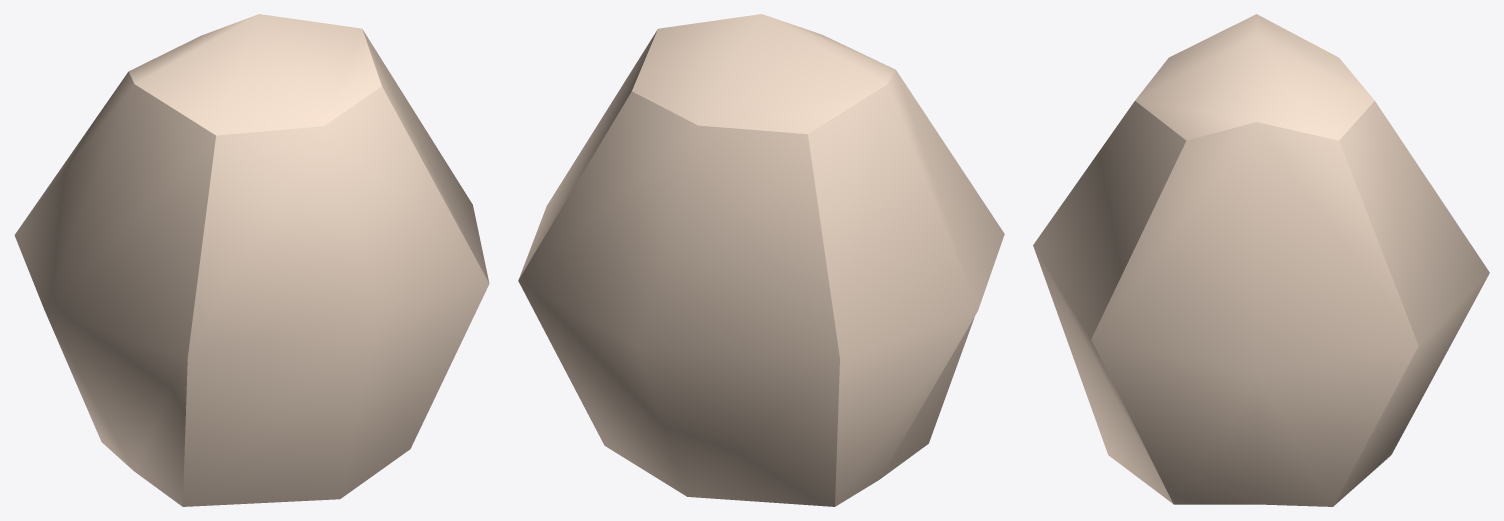
The model's file is egg.fbx.
3 renders of one model, left to right at view 1: azimuth 30°, elevation 25°; view 2: azimuth 150°, elevation 25°; view 3: azimuth 270°, elevation 25°, orthographic. The views are drawn at different scales.
Parts seen in each view (by area): view 1: pCube1; view 2: pCube1; view 3: pCube1.
Part boxes in pixels (left/top/right/bottom): pCube1: left=14, top=14, right=489, bottom=506; pCube1: left=518, top=14, right=1004, bottom=506; pCube1: left=1033, top=14, right=1489, bottom=506.
Bounding box in the file's own units: 7.3 × 7.01 × 6.93.
1 material, 1 textured.
